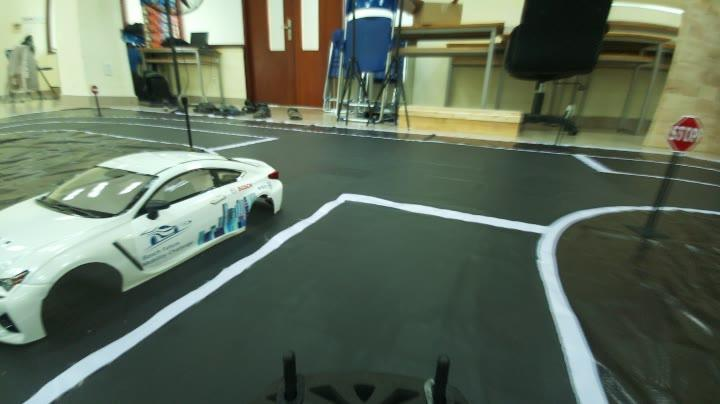car: (0, 164, 309, 330)
stop: (662, 113, 706, 156)
